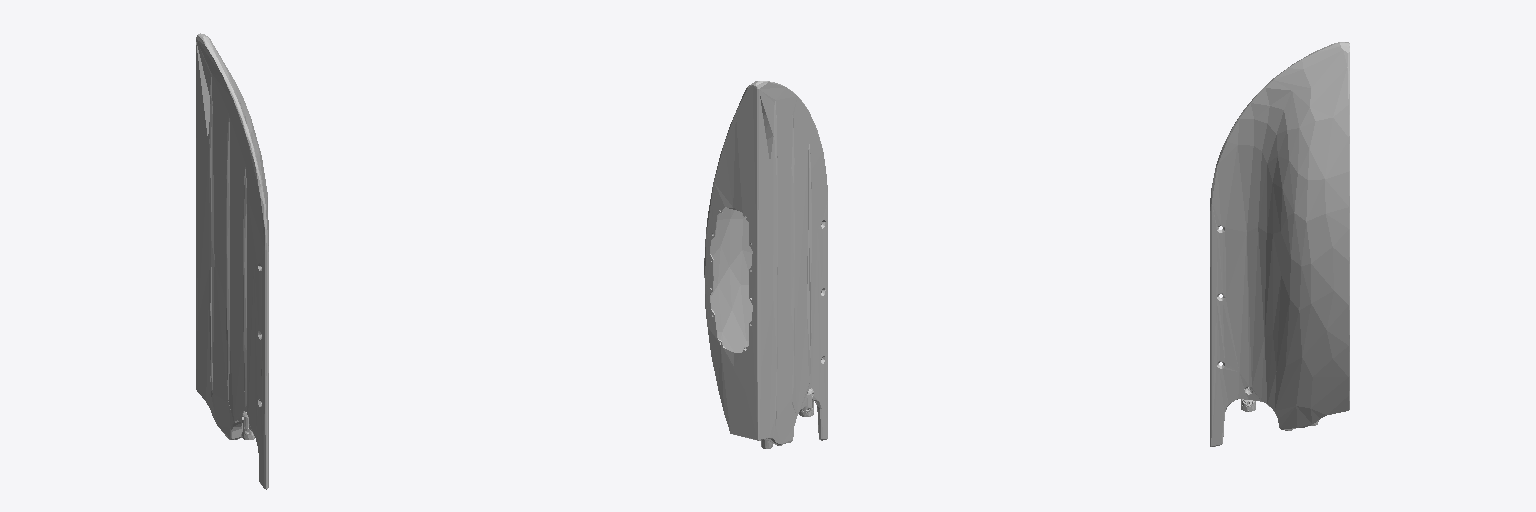
Rendered from leftside_F.obj.
The picture shows the model from 3 angles: view 1: azimuth 30°, elevation 25°; view 2: azimuth 150°, elevation 25°; view 3: azimuth 270°, elevation 25°; orthographic projection.
Visible parts, largest first — view 1: Left_side; view 2: Left_side; view 3: Left_side.
Boxes of the visible parts, x1=… form: Left_side: x1=196, y1=33, x2=268, y2=489; Left_side: x1=704, y1=81, x2=827, y2=448; Left_side: x1=1210, y1=42, x2=1349, y2=446.
Size of the model in its own units: 0.1718 by 1.14 by 0.3585.